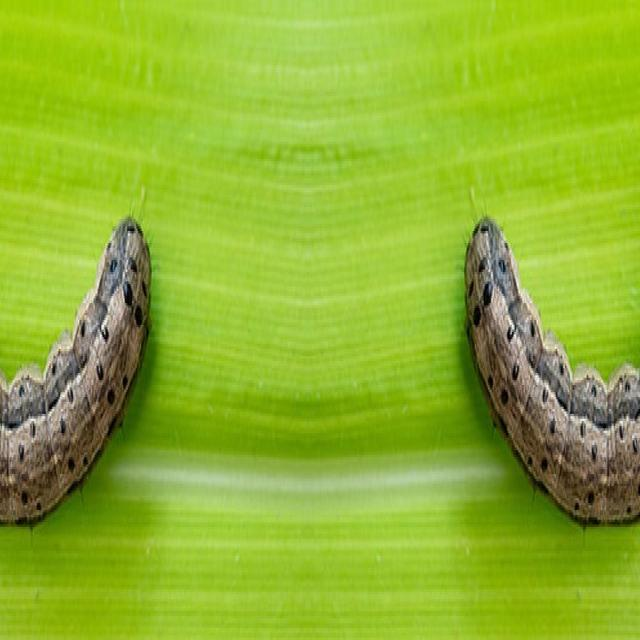armyworm: (463, 212, 639, 527), (0, 210, 152, 524)
